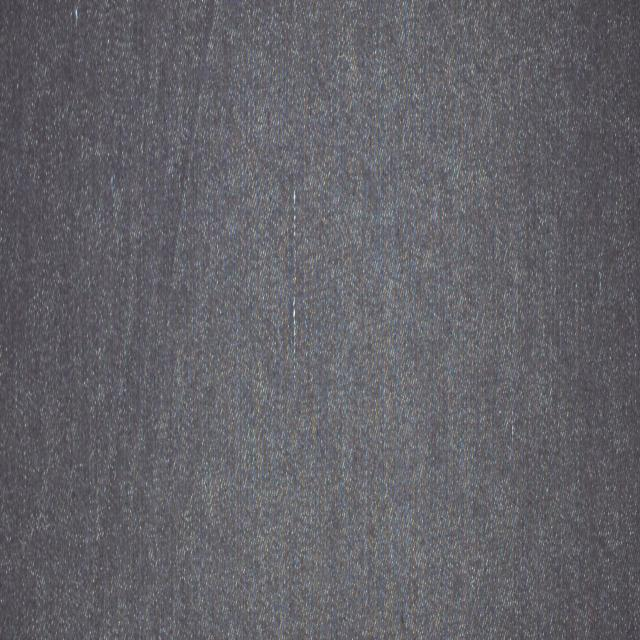pulled_or_thick_thread: (292, 188, 300, 375)
